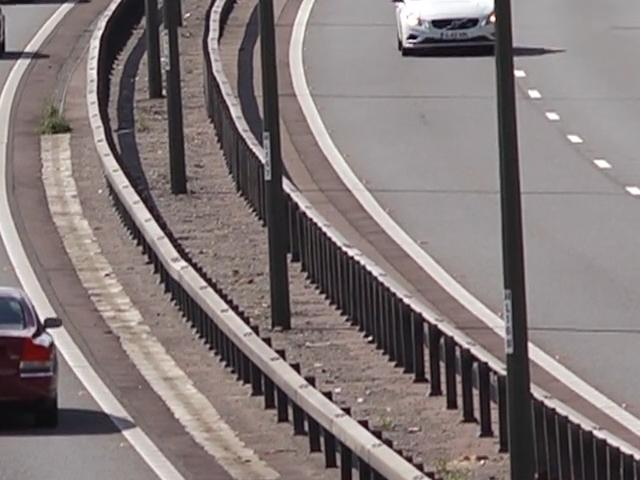car: (0, 295, 71, 420), (386, 0, 508, 71)
